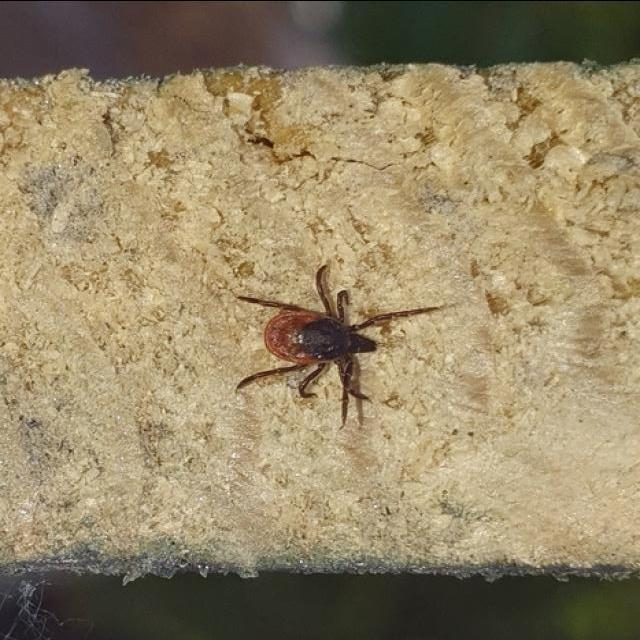Ixodes Ricinus-F: (234, 262, 456, 426)
